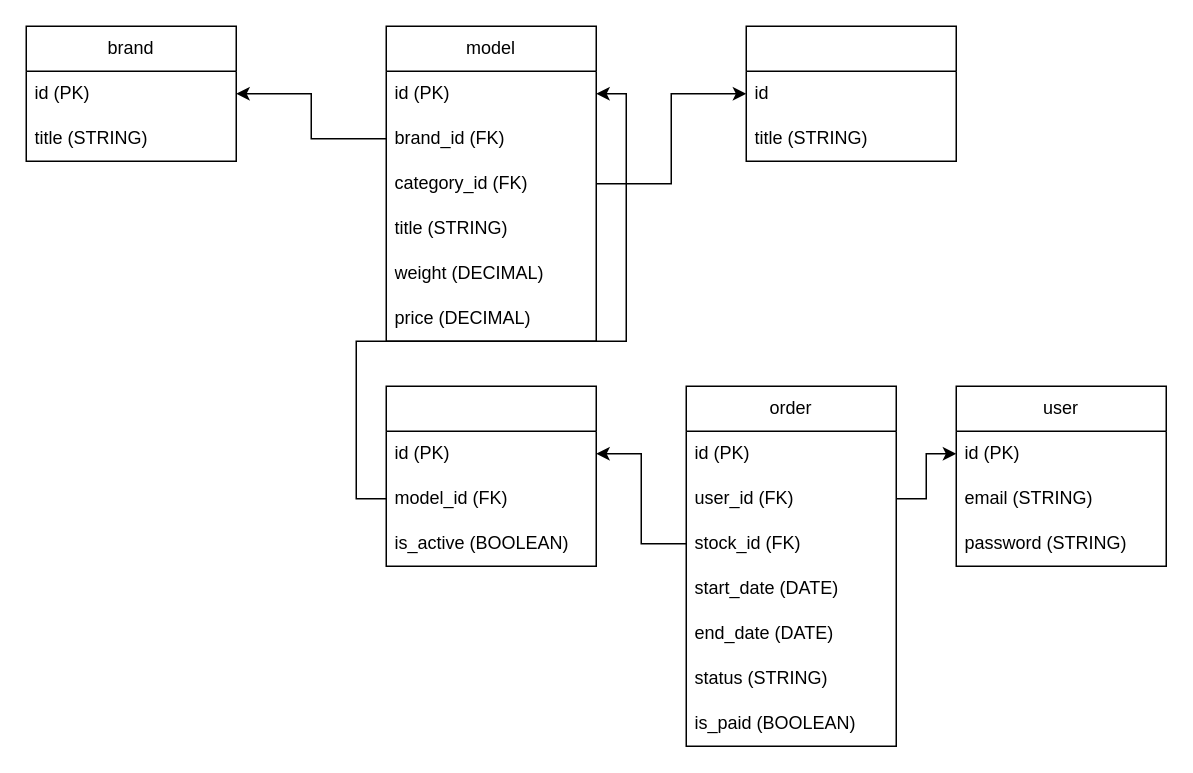
Image size: 1193x773. Some labels were removed from this diagram. The box of each missing label's shape, as (x1, y1, x2, y2) in pixels:
category: (745, 25, 956, 161)
stock: (385, 385, 596, 566)
